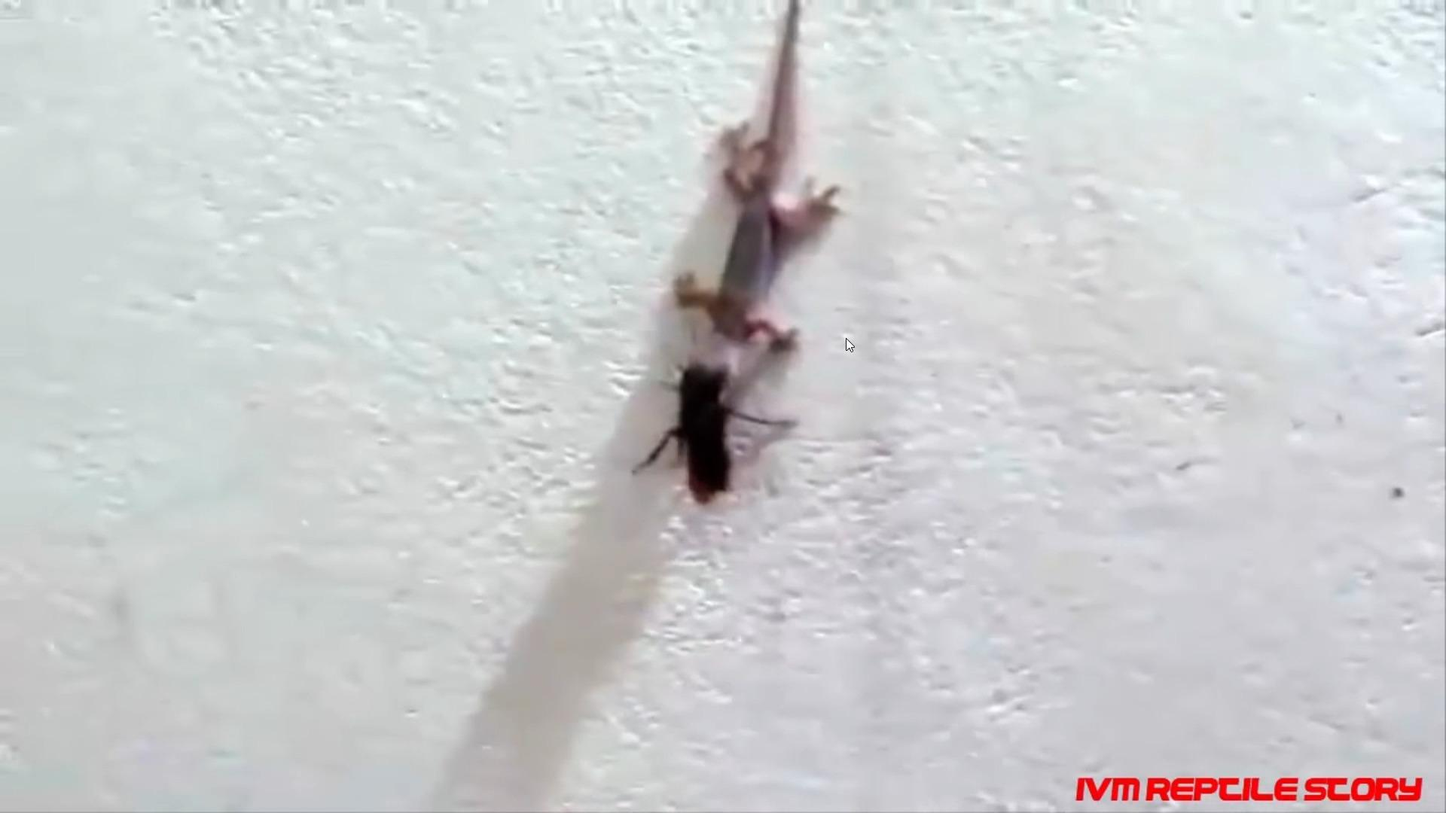cockroach: (661, 370, 754, 509)
lizard: (691, 46, 834, 365)
